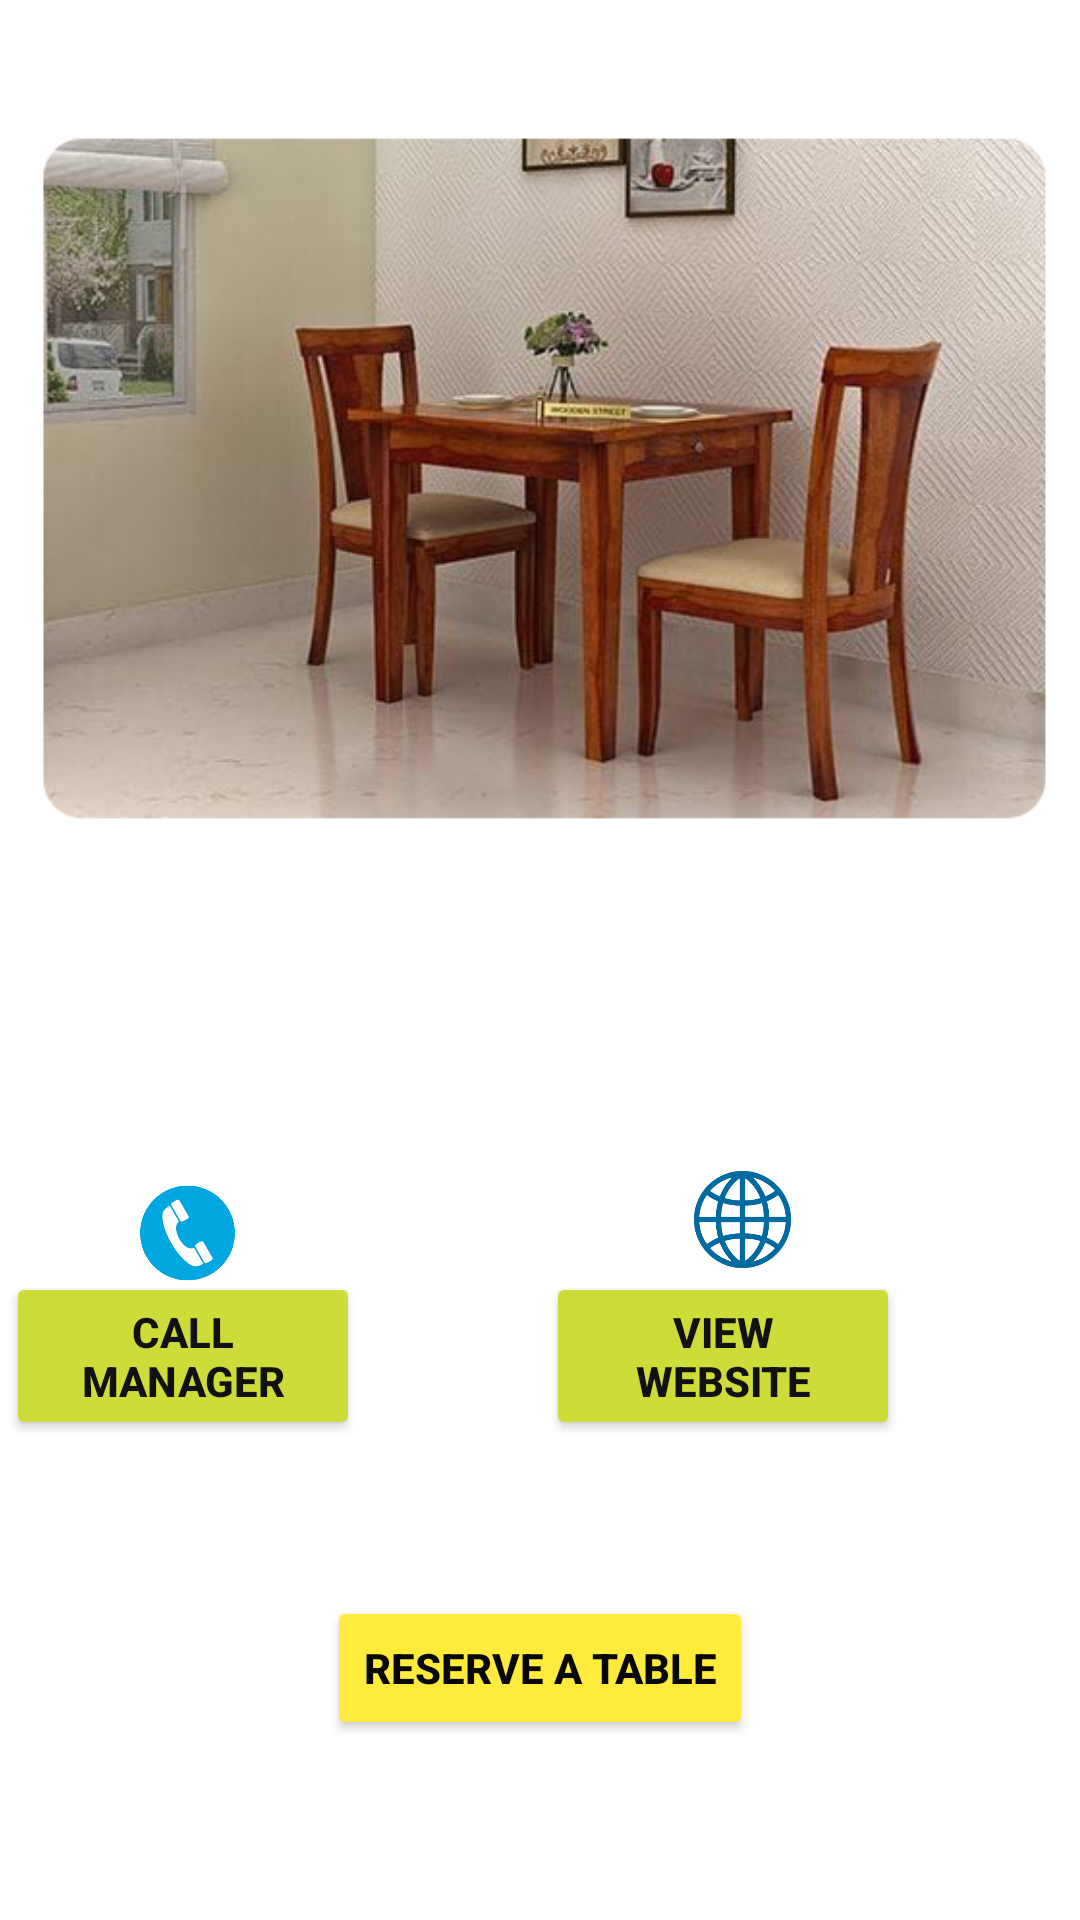

Where icons sit on this 1080px×1920px app screen, as (x1, y1, x2, y2):
web: (694, 1171, 791, 1268)
